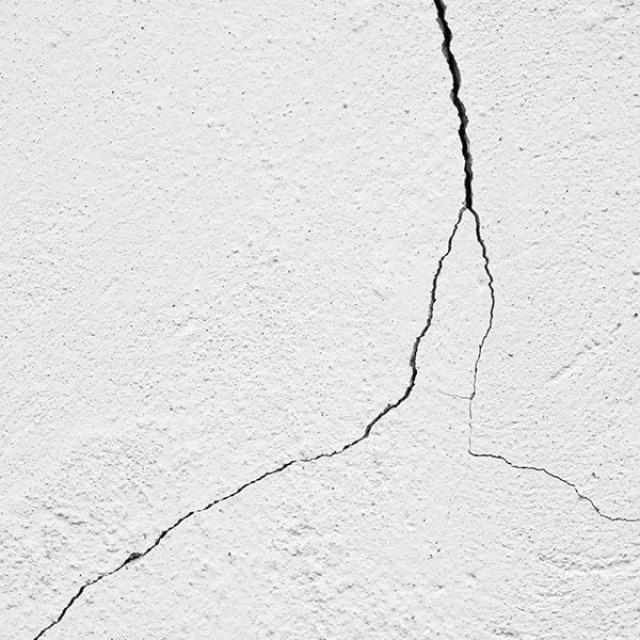Wall_Cracks: (28, 1, 632, 640)
